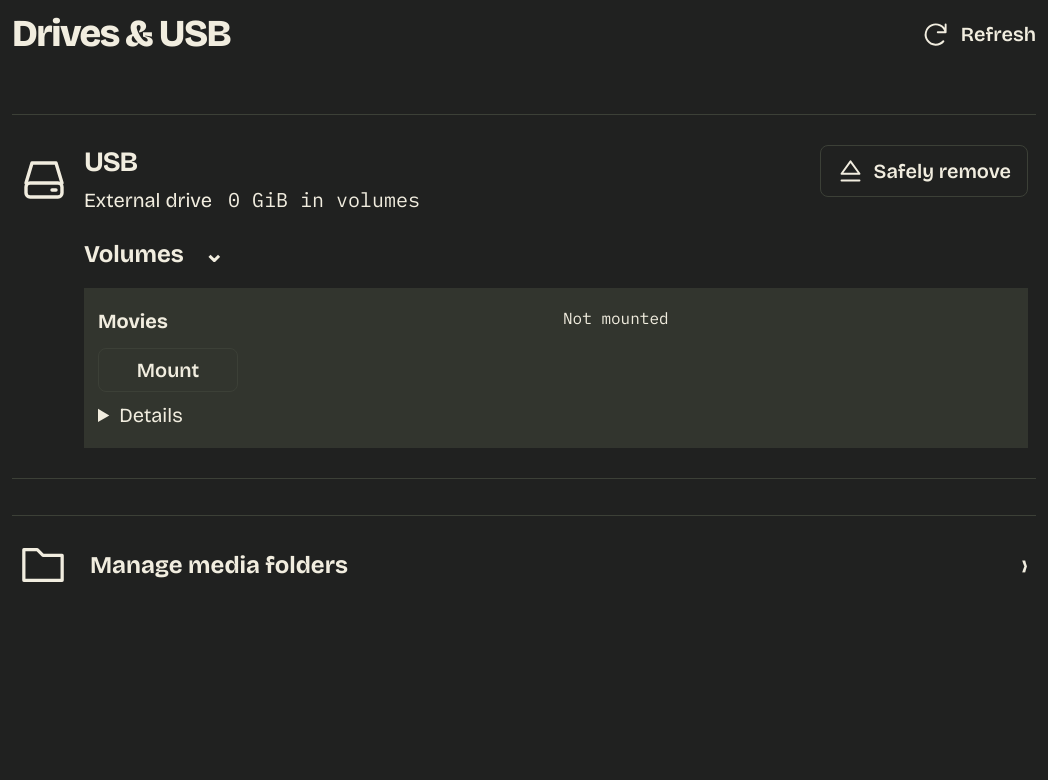
Test: offers mounting for unmounted volumes and reports actual completion
Click the button with aria-label "Mount Movies" at (168,370), box [98,348,238,392]
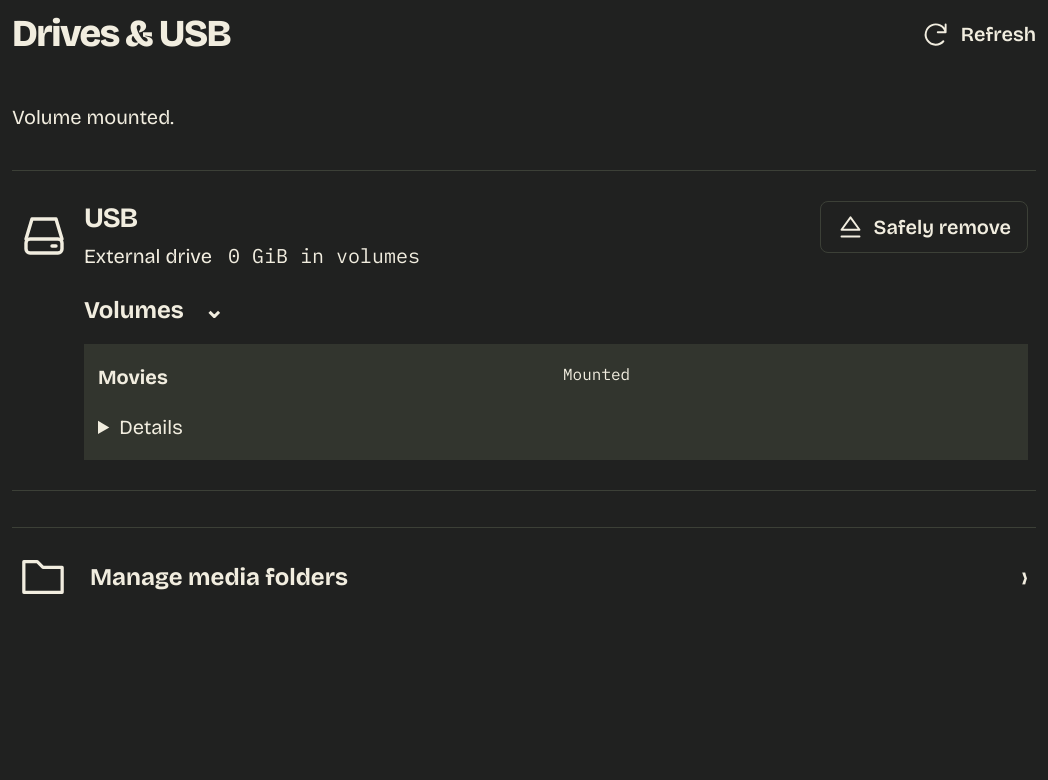
Now the text "Volume mounted." is shown, box [12,105,174,129]
